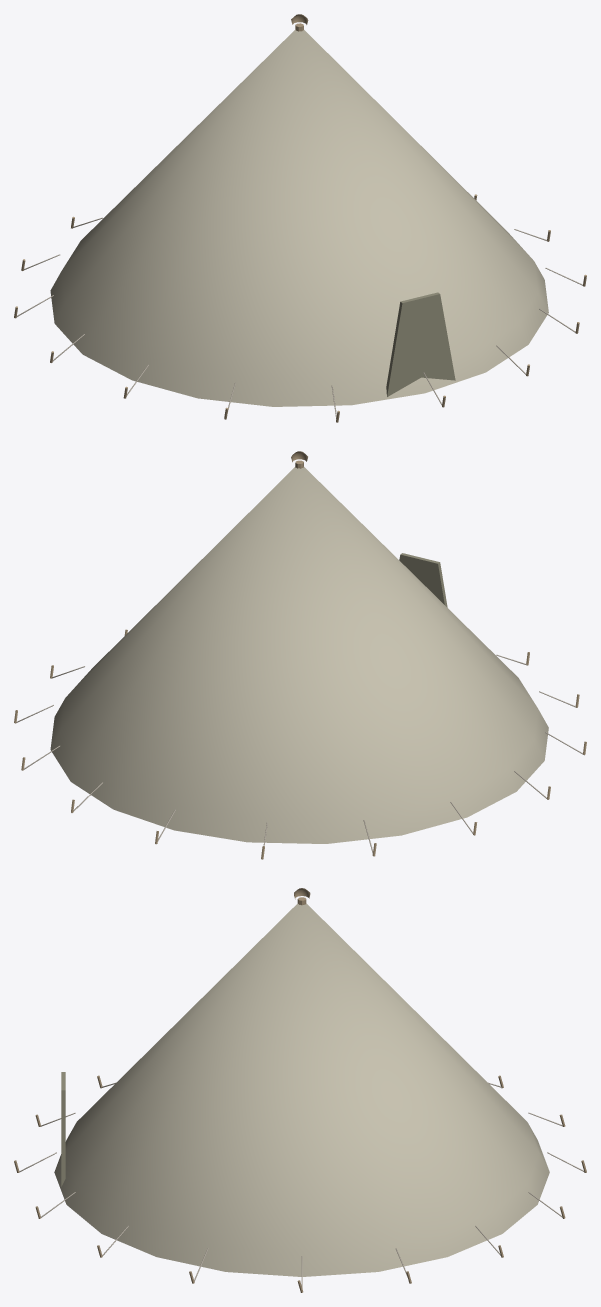
File: trench-line-1917-bell-tent-05d09624__24125.glb
3 views of the same model, one above another, from view 1: azimuth 30°, elevation 25°; view 2: azimuth 150°, elevation 25°; view 3: azimuth 270°, elevation 25° (orthographic).
Visible parts, largest first — view 1: bell-tent; view 2: bell-tent; view 3: bell-tent.
Part boxes in pixels (<box>): bell-tent: <box>14,14,586,422</box>; bell-tent: <box>14,451,586,859</box>; bell-tent: <box>14,888,586,1292</box>.
Bounding box in the file's own units: 7.94 × 4.35 × 7.98.
